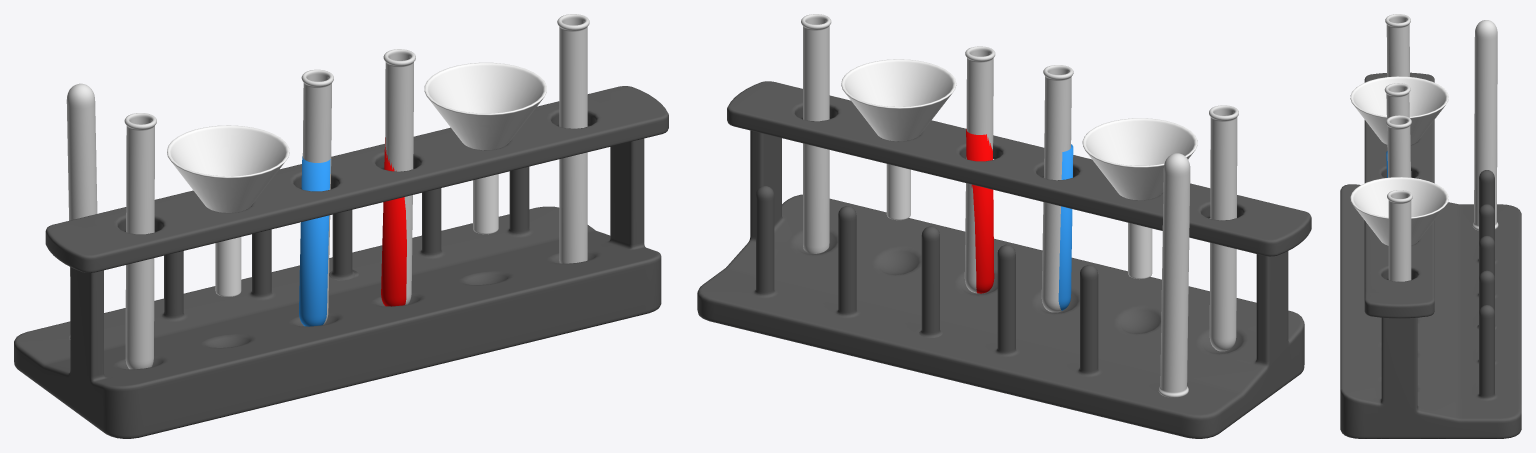
The model's file is lab_equipment2.fbx.
3 renders of one model, left to right at view 1: azimuth 30°, elevation 25°; view 2: azimuth 150°, elevation 25°; view 3: azimuth 270°, elevation 25°, orthographic. The views are drawn at different scales.
Parts seen in each view (by area): view 1: test_tube_holder_001_mesh, test_tube_holder_002_mesh, test_tube_funnel_001_mesh, test_tube_funnel_002_mesh, test_tube_001_mesh, test_tube_002_mesh, test_tube_001_mesh.003, test_tube_001_mesh.005, test_tube_001_mesh.004, test_tube_001_mesh.002, test_tube_001_mesh.006; view 2: test_tube_holder_001_mesh, test_tube_holder_002_mesh, test_tube_funnel_002_mesh, test_tube_funnel_001_mesh, test_tube_001_mesh.004, test_tube_001_mesh, test_tube_002_mesh, test_tube_001_mesh.002, test_tube_001_mesh.003, test_tube_001_mesh.006, test_tube_001_mesh.005; view 3: test_tube_holder_001_mesh, test_tube_holder_002_mesh, test_tube_001_mesh.004, test_tube_funnel_002_mesh, test_tube_funnel_001_mesh, test_tube_002_mesh, test_tube_001_mesh.003, test_tube_001_mesh, test_tube_001_mesh.002.
Boxes of the visible parts, x1=… form: test_tube_holder_001_mesh: x1=14, y1=138, x2=661, y2=438; test_tube_holder_002_mesh: x1=45, y1=86, x2=668, y2=272; test_tube_funnel_001_mesh: x1=167, y1=125, x2=289, y2=296; test_tube_funnel_002_mesh: x1=424, y1=62, x2=546, y2=234; test_tube_001_mesh: x1=124, y1=113, x2=156, y2=369; test_tube_002_mesh: x1=557, y1=14, x2=589, y2=263; test_tube_001_mesh.003: x1=383, y1=49, x2=415, y2=304; test_tube_001_mesh.005: x1=299, y1=156, x2=330, y2=326; test_tube_001_mesh.004: x1=66, y1=83, x2=97, y2=339; test_tube_001_mesh.002: x1=301, y1=69, x2=333, y2=324; test_tube_001_mesh.006: x1=381, y1=137, x2=406, y2=306; test_tube_holder_001_mesh: x1=697, y1=130, x2=1304, y2=438; test_tube_holder_002_mesh: x1=727, y1=81, x2=1311, y2=256; test_tube_funnel_002_mesh: x1=841, y1=59, x2=956, y2=220; test_tube_funnel_001_mesh: x1=1082, y1=118, x2=1197, y2=278; test_tube_001_mesh.004: x1=1158, y1=153, x2=1190, y2=397; test_tube_001_mesh: x1=1209, y1=105, x2=1238, y2=351; test_tube_002_mesh: x1=801, y1=14, x2=831, y2=253; test_tube_001_mesh.002: x1=1041, y1=65, x2=1073, y2=312; test_tube_001_mesh.003: x1=964, y1=46, x2=995, y2=293; test_tube_001_mesh.006: x1=966, y1=129, x2=994, y2=293; test_tube_001_mesh.005: x1=1058, y1=144, x2=1073, y2=310; test_tube_holder_001_mesh: x1=1340, y1=170, x2=1521, y2=438; test_tube_holder_002_mesh: x1=1364, y1=72, x2=1434, y2=318; test_tube_001_mesh.004: x1=1472, y1=20, x2=1498, y2=230; test_tube_funnel_002_mesh: x1=1350, y1=177, x2=1448, y2=245; test_tube_funnel_001_mesh: x1=1350, y1=76, x2=1448, y2=144; test_tube_002_mesh: x1=1387, y1=190, x2=1412, y2=281; test_tube_001_mesh.003: x1=1386, y1=115, x2=1411, y2=177; test_tube_001_mesh: x1=1385, y1=14, x2=1410, y2=76; test_tube_001_mesh.002: x1=1384, y1=83, x2=1411, y2=177.
Size of the model in its own units: 0.3508 by 0.1152 by 0.1597.
